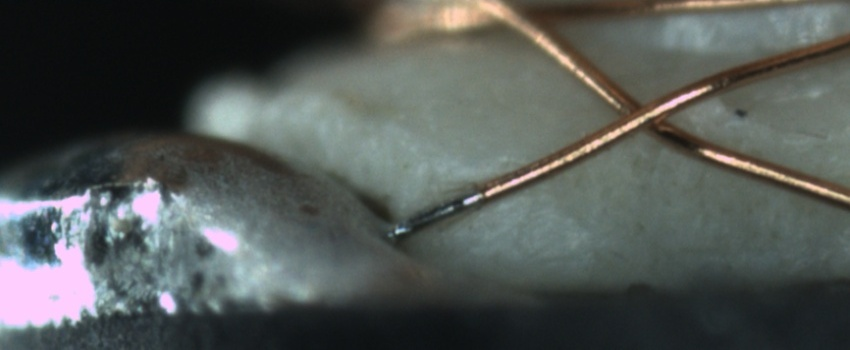CL: (594, 80, 691, 145)
TS: (388, 186, 485, 238)
TTCW: (389, 152, 553, 241)
